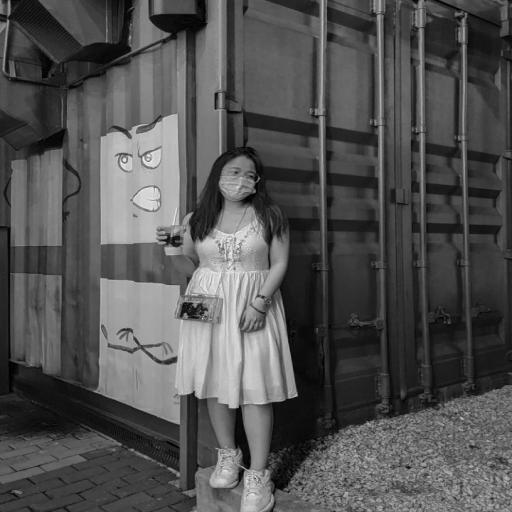mask: (219, 161, 259, 202)
